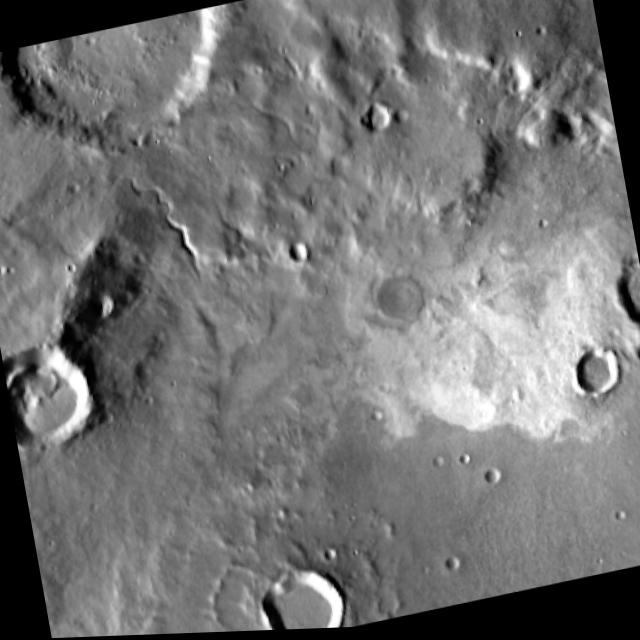Crater: (6, 4, 257, 193), (222, 529, 360, 634), (0, 326, 112, 454), (582, 245, 640, 347)
